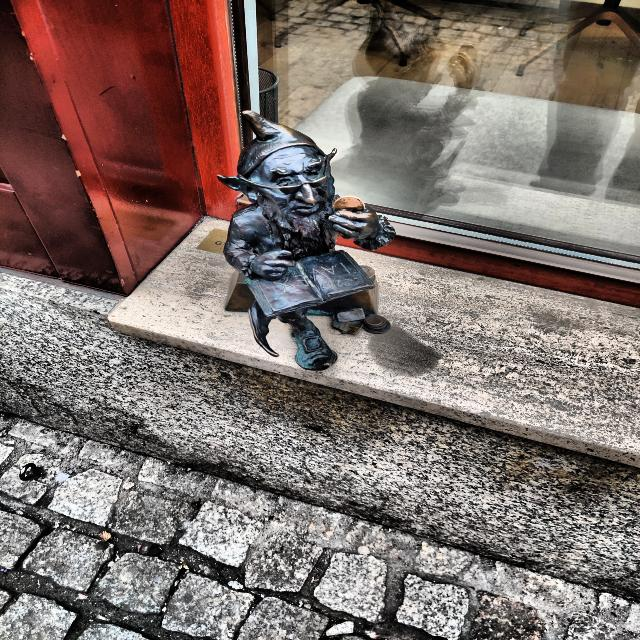Gaugan: (220, 111, 395, 370)
